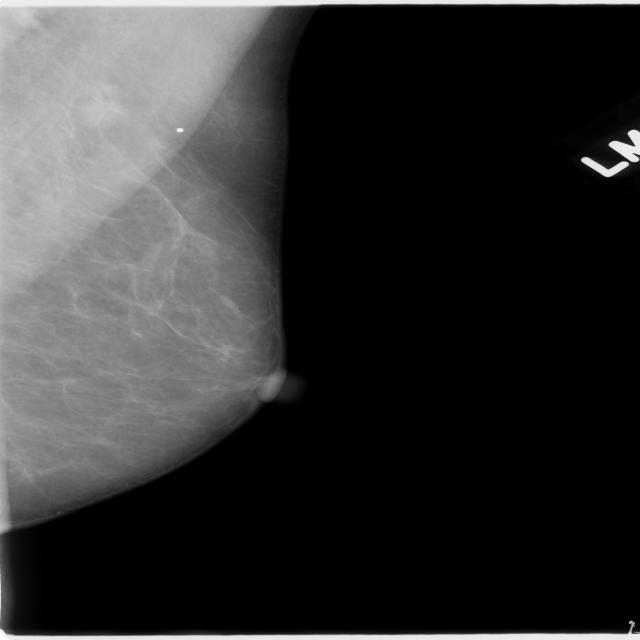normal: (0, 54, 363, 551)
